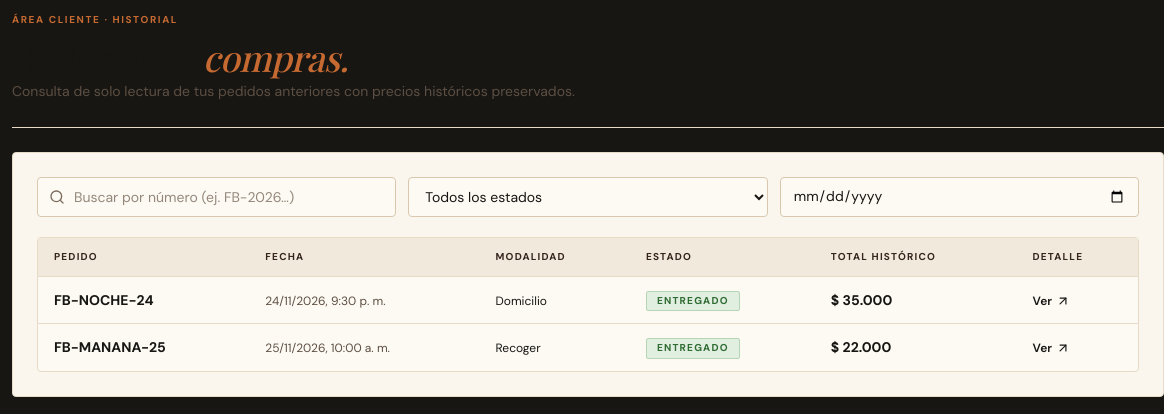
Scenario: Correcciones postauditoría frontend (AUD-07, AUD-08, AUD-09) › AUD-07: ClientHistoryPage filtra por fecha local America/Bogota sin desplazar pedidos nocturnos
Type "2026-11-24" into the date field named "filtrar por fecha". click: {"x": 959, "y": 197}
box: [780,177,1139,217]
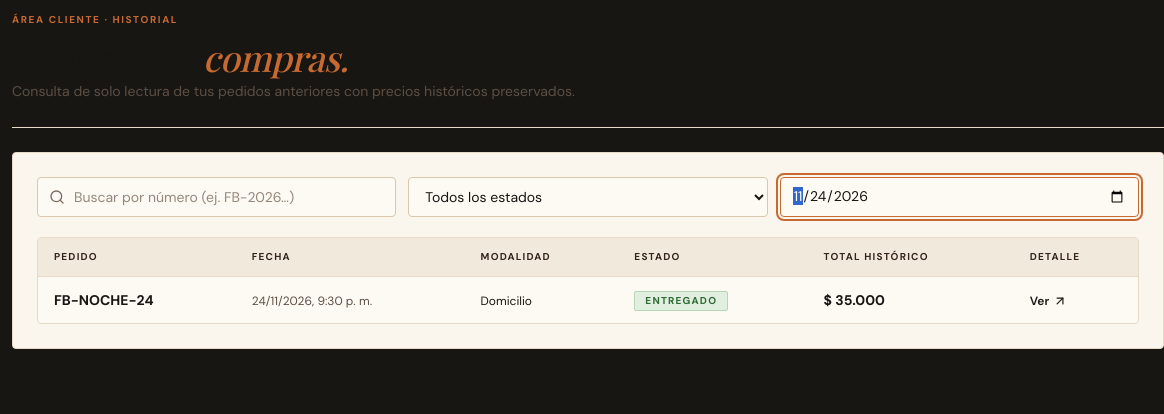
expect the text "FB-NOCHE-24" is shown: met, box [54,291,154,309]
expect the text "FB-MANANA-25" is gone: met
